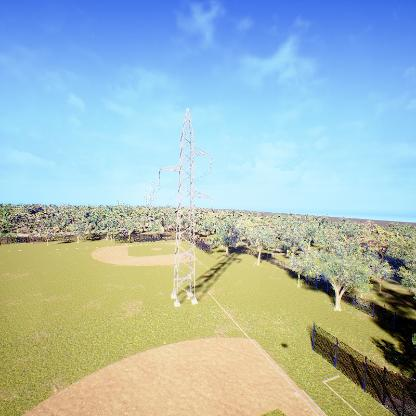tower: (156, 104, 214, 312)
